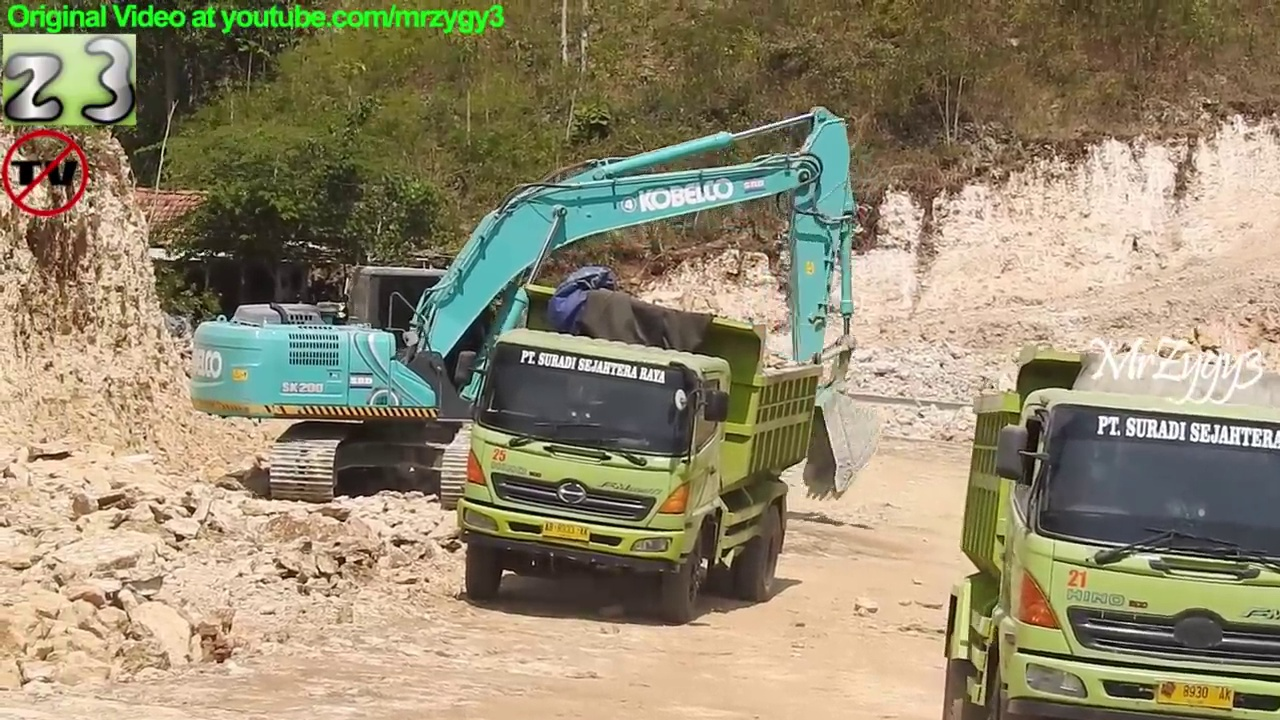excavator: (182, 100, 896, 519)
truck: (454, 278, 830, 630), (936, 337, 1280, 720)
